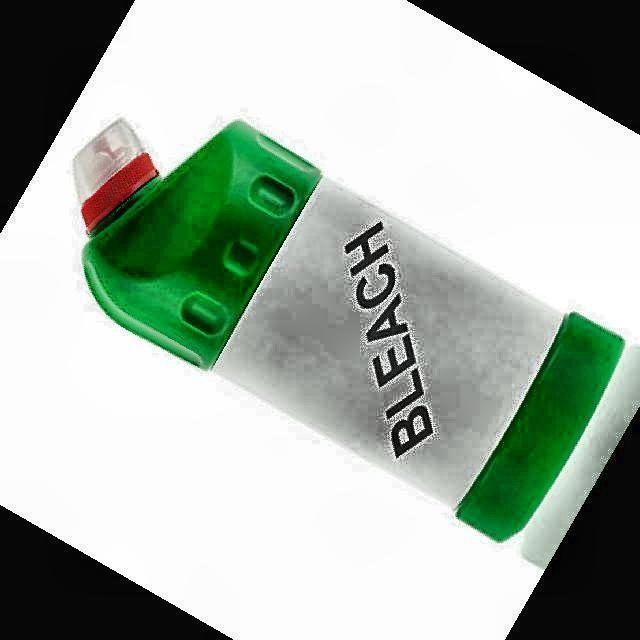plastic: (76, 121, 624, 541)
